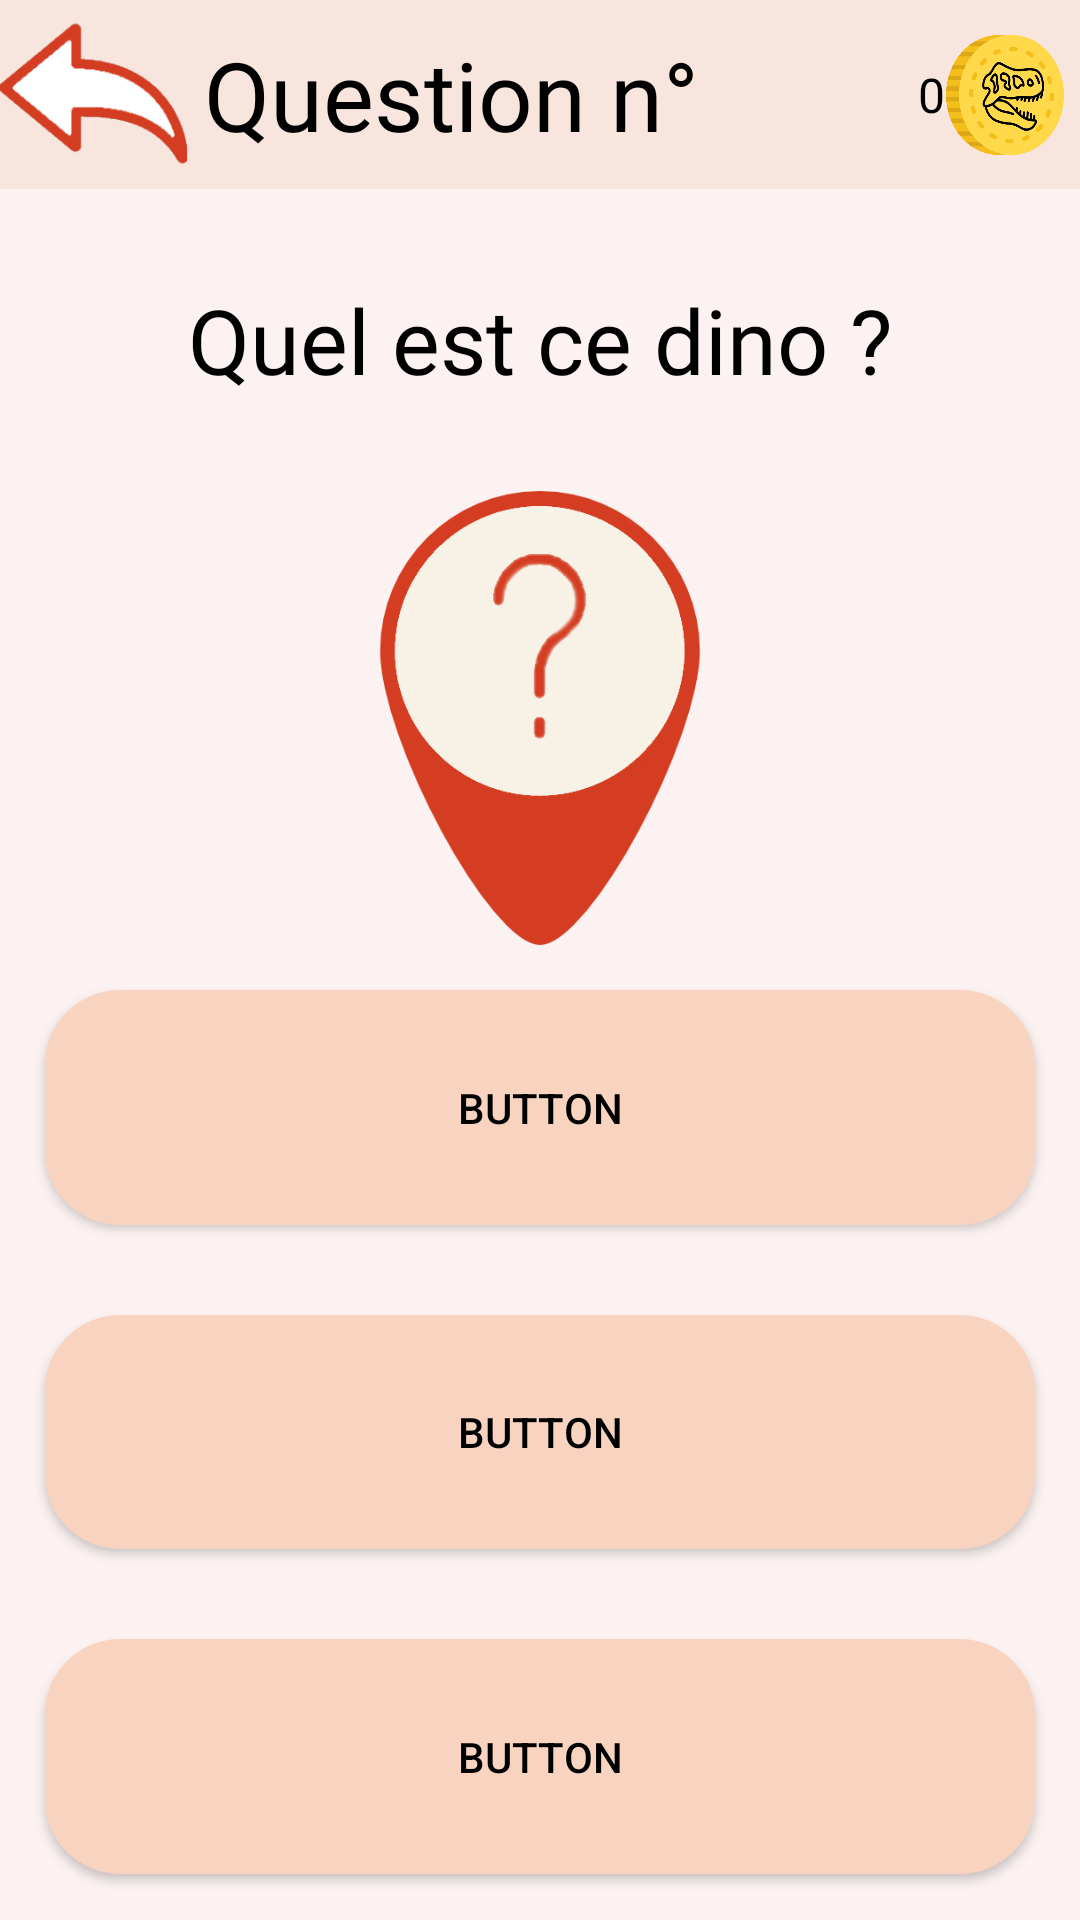

Screen size 1080*1920. Icon name, then its box in pixels as (x1, y1, x2, y2):
boutonretour: (0, 23, 187, 164)
coin: (946, 35, 1064, 155)
